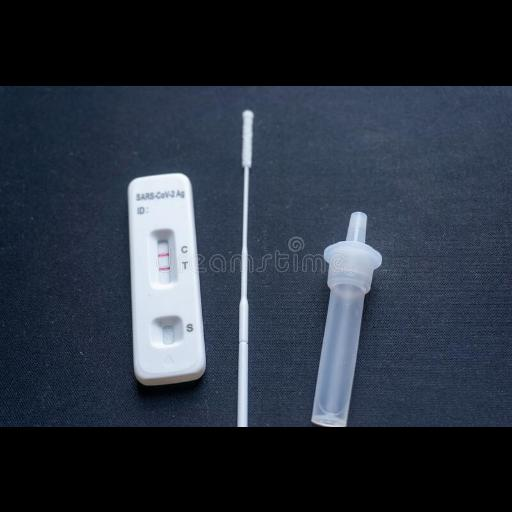Pos: (126, 172, 206, 378)
